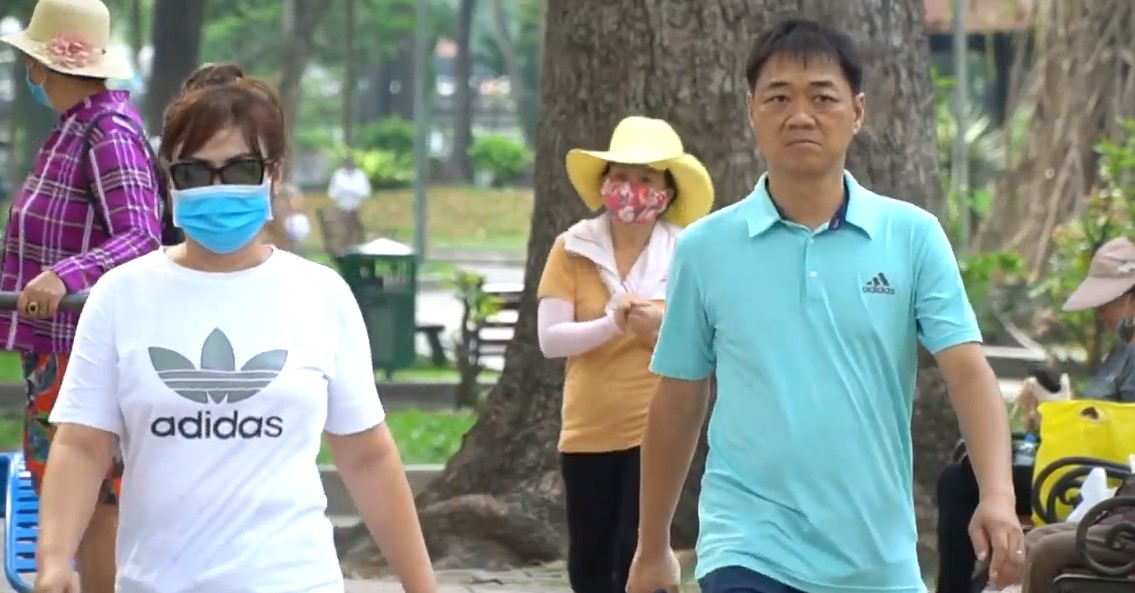face_no_mask: (743, 22, 867, 188)
face_with_mask: (158, 77, 285, 256), (19, 2, 106, 112), (604, 123, 672, 223)
